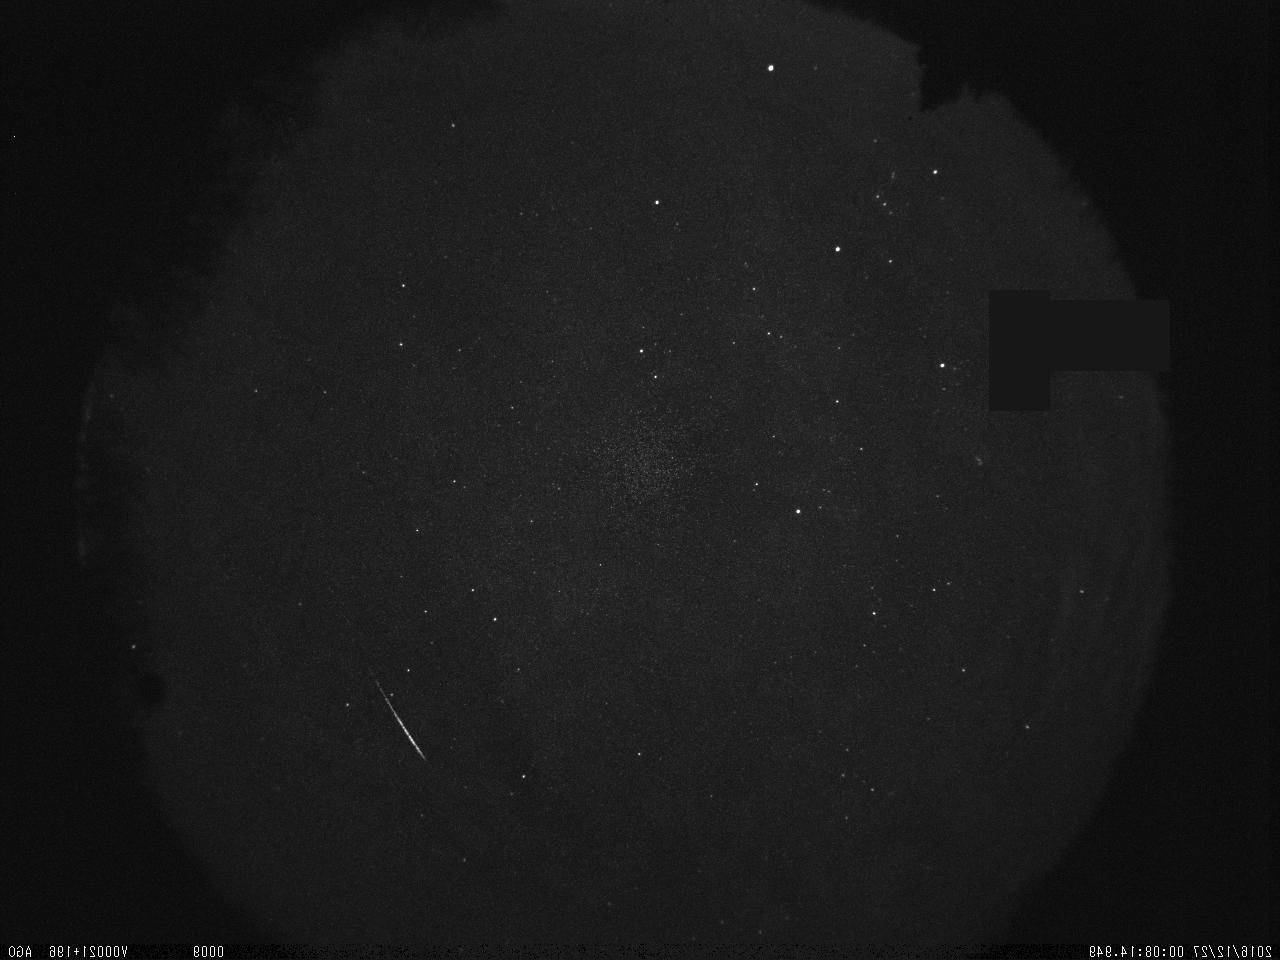meteor: (359, 651, 437, 771)
